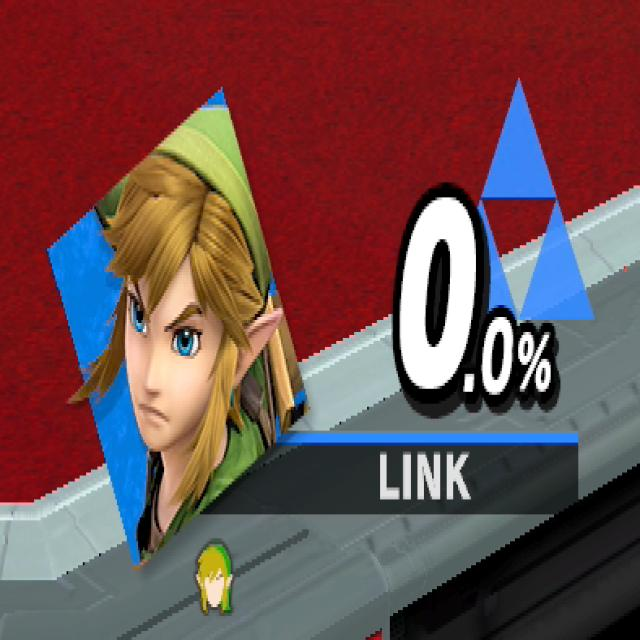link: (102, 122, 294, 556)
